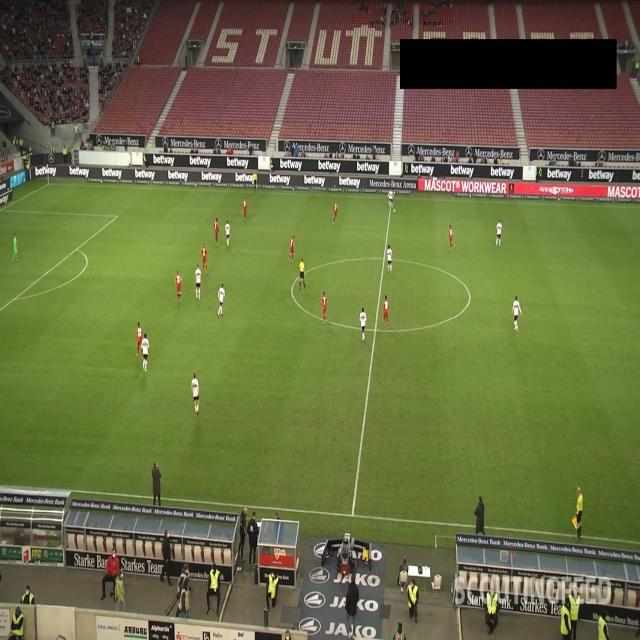ball: (393, 208, 396, 213)
